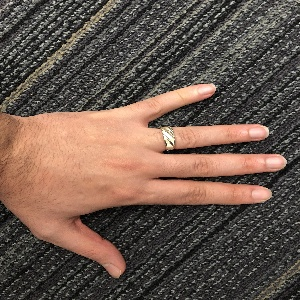hand: (30, 84, 285, 277)
